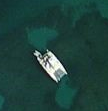ship: (30, 46, 73, 87)
